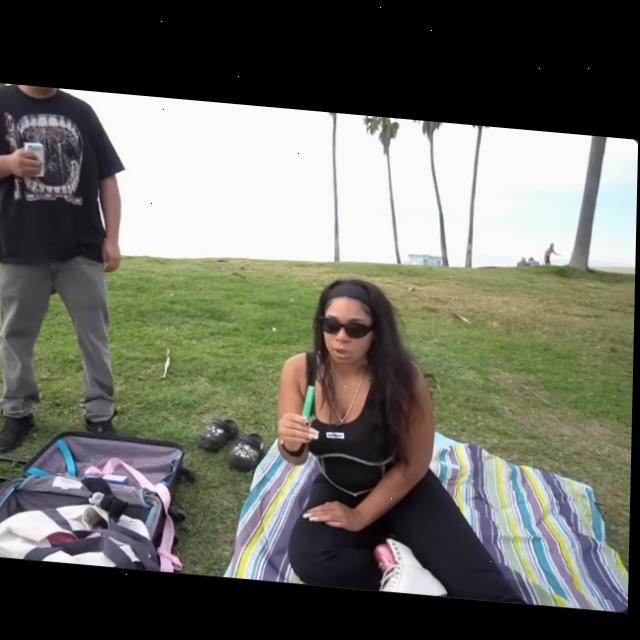vape: (303, 380, 318, 419)
